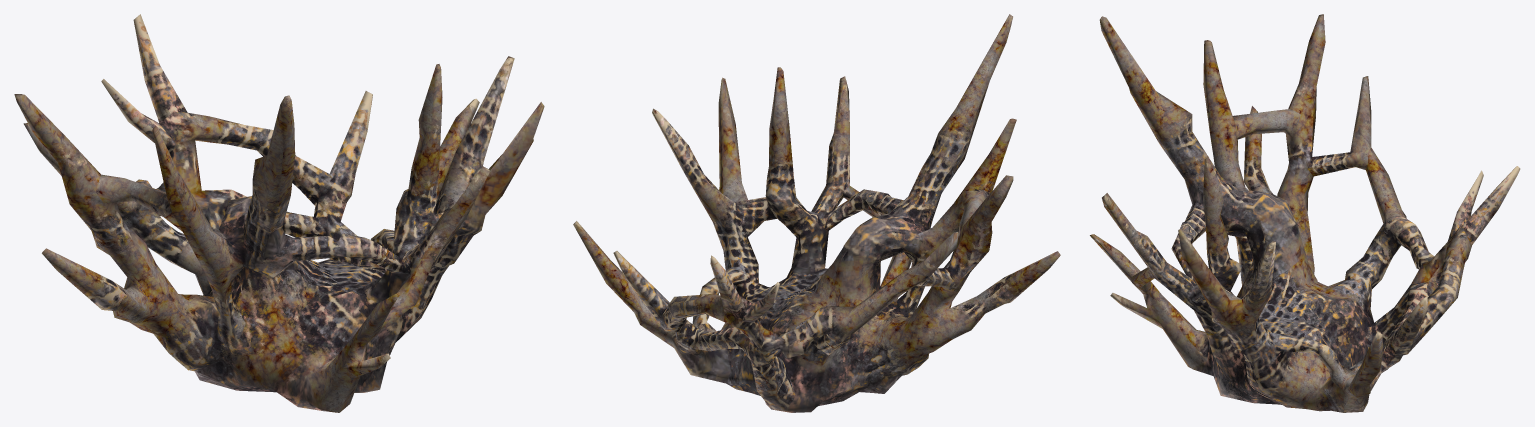
The model's file is P_VariationBranch01_01.fbx.
3 renders of one model, left to right at view 1: azimuth 30°, elevation 25°; view 2: azimuth 150°, elevation 25°; view 3: azimuth 270°, elevation 25°, orthographic. The views are drawn at different scales.
Parts seen in each view (by area): view 1: P_VariationBranch01_01; view 2: P_VariationBranch01_01; view 3: P_VariationBranch01_01.
Part boxes in pixels (left/top/right/bottom): P_VariationBranch01_01: left=14, top=14, right=544, bottom=412; P_VariationBranch01_01: left=573, top=14, right=1060, bottom=412; P_VariationBranch01_01: left=1090, top=14, right=1520, bottom=412.
Bounding box in the file's own units: 1065 × 766 × 950.
